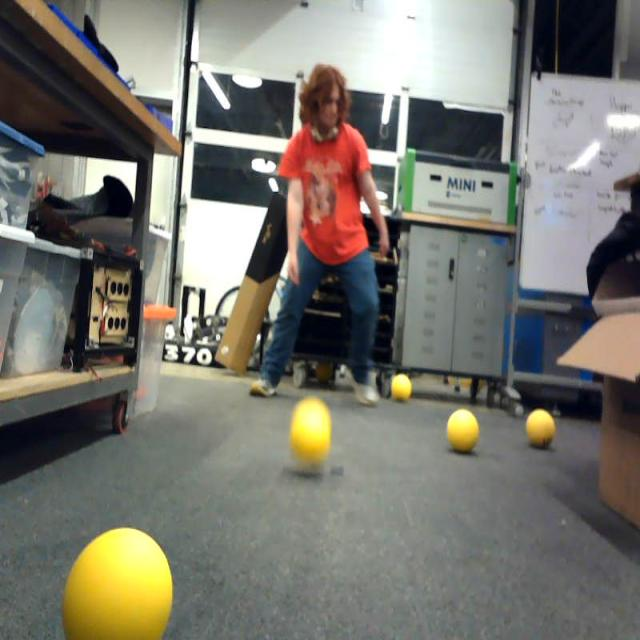Fuel: (62, 527, 173, 640), (290, 399, 330, 462), (448, 409, 479, 452), (526, 409, 556, 448), (392, 374, 412, 402)
